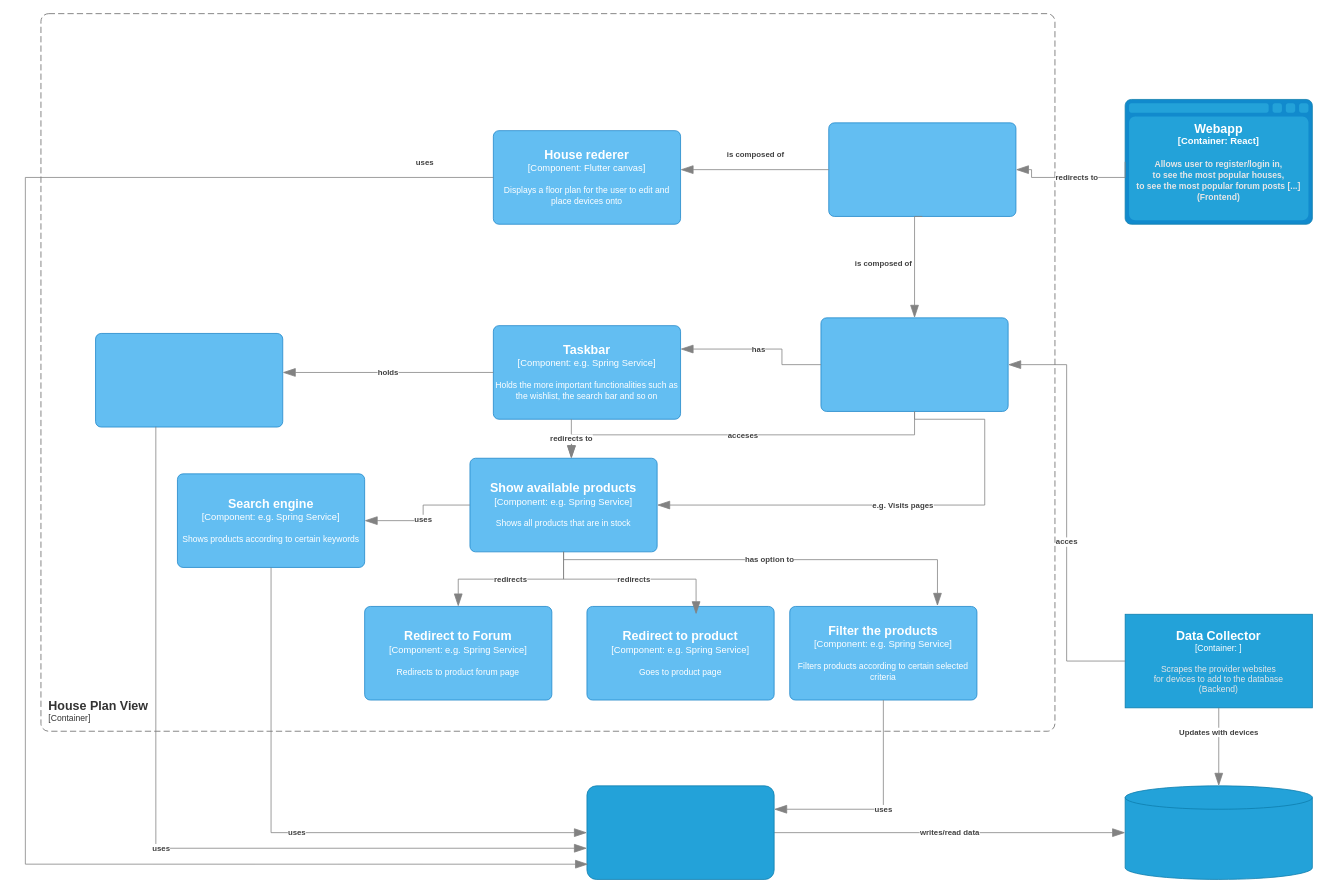
This 1326x893 diagram has some shape labels left out. The shapes that lost their labels are listed below. From the top down, each one's centre as x and y in pixels, then its label:
At (x=922, y=169): "House Plan View Container [: ]".
At (x=189, y=380): "Wishlist [Component: e.g. Spring Service] List of desired products".
At (x=914, y=364): "Marketplace Container [: ]".
At (x=680, y=832): "SHB API [Container: ] (Backend)".
At (x=1218, y=832): "Data Base [Container : ] (Database)".
